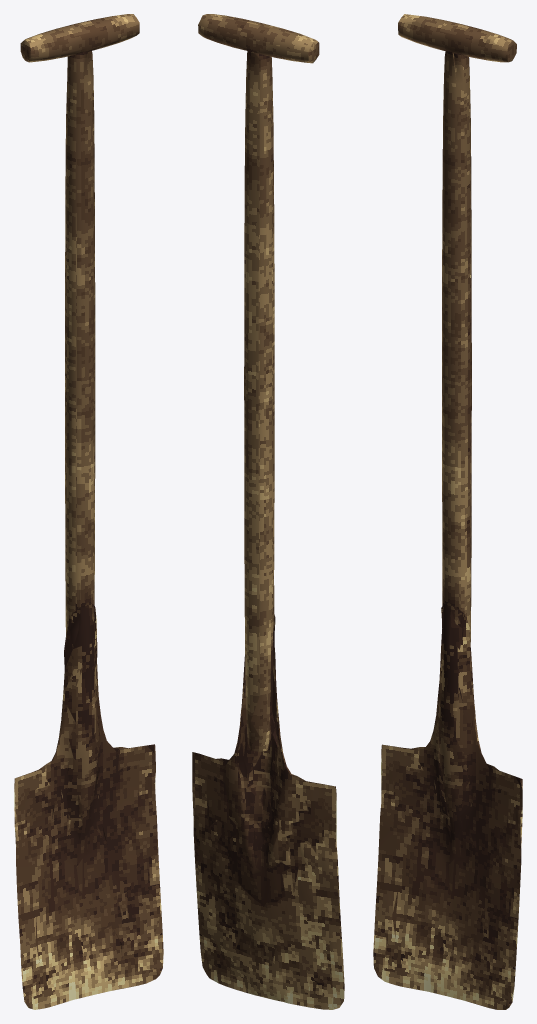
Rendered from rusted_spade_01.glb.
3 views of the same model, side by side, from view 1: azimuth 30°, elevation 25°; view 2: azimuth 150°, elevation 25°; view 3: azimuth 330°, elevation 25° (orthographic). The views are drawn at different scales.
Parts seen in each view (by area): view 1: body; view 2: body; view 3: body.
Boxes of the visible parts, x1=… form: body: x1=14, y1=14, x2=163, y2=1009; body: x1=192, y1=14, x2=344, y2=1009; body: x1=373, y1=14, x2=522, y2=1009.
Bounding box in the file's own units: 0.1693 × 1.1 × 0.0456.
Materials: 1 (1 with a texture image).
